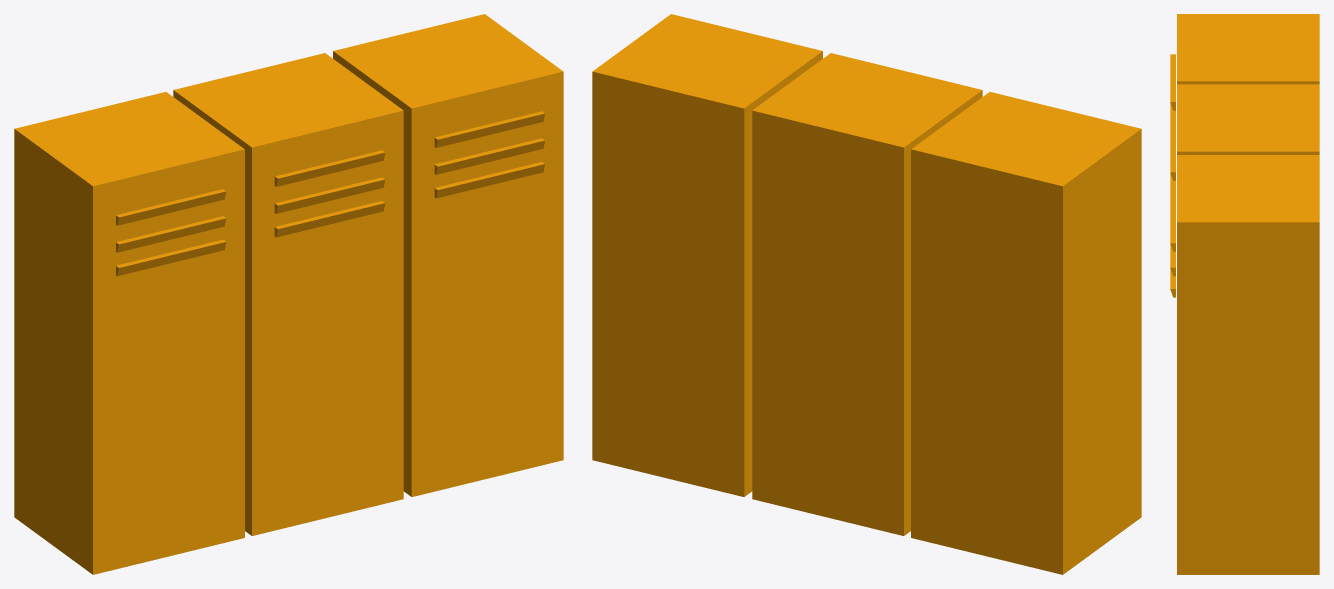
The picture shows the model from 3 angles, left to right: view 1: azimuth 30°, elevation 25°; view 2: azimuth 150°, elevation 25°; view 3: azimuth 270°, elevation 25°; orthographic projection. The views are drawn at different scales.
Visible parts, largest first — view 1: OJ6_2; view 2: OJ6_2; view 3: OJ6_2.
Part boxes in pixels (<box>): OJ6_2: <box>14,14,563,574</box>; OJ6_2: <box>592,14,1141,574</box>; OJ6_2: <box>1170,14,1319,574</box>.
Size of the model in its own units: 2.83 by 2.24 by 0.8594.
